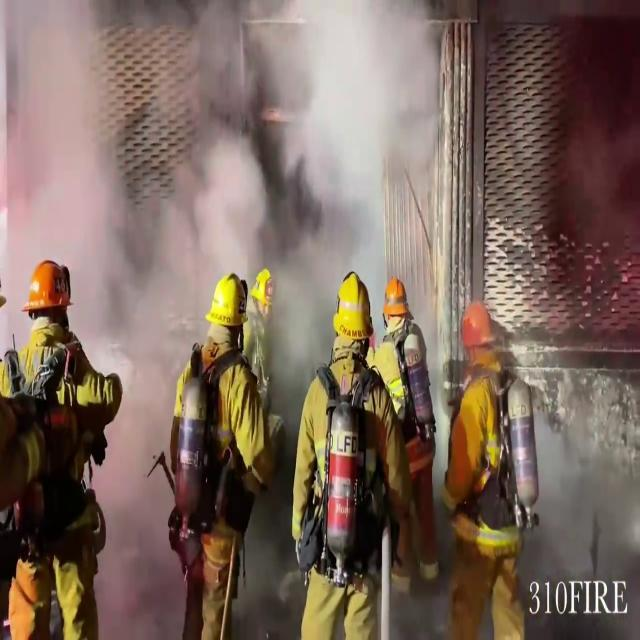Smoke: (0, 0, 446, 580), (546, 0, 640, 344)
